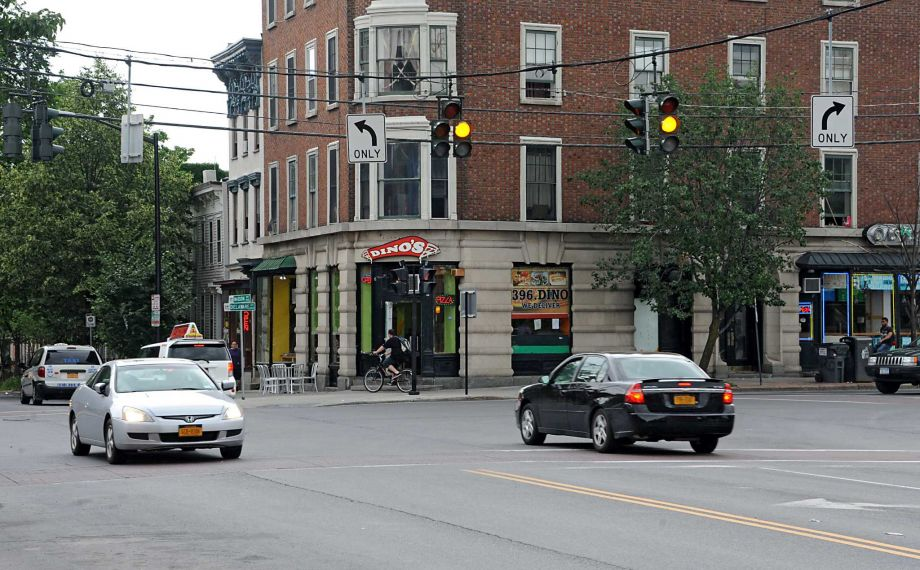traffic_light: (430, 98, 474, 160), (655, 93, 682, 155)
